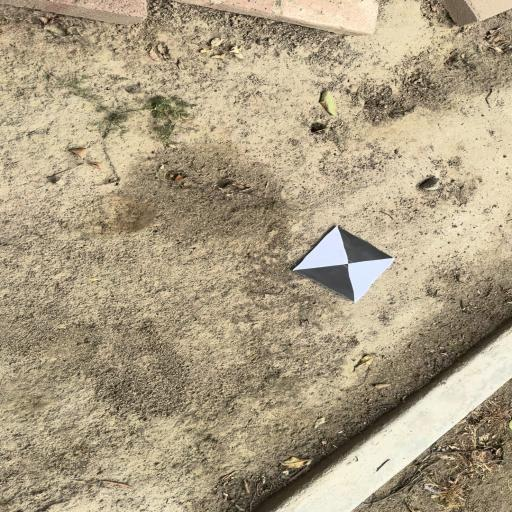target: (292, 226, 392, 302)
